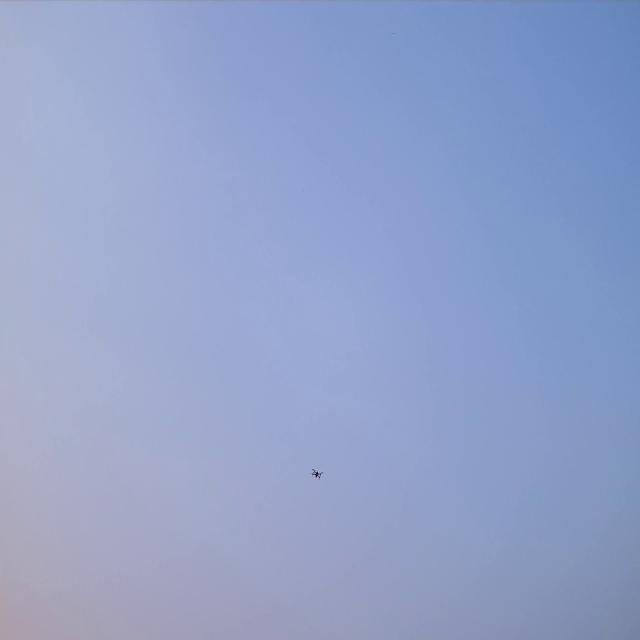UAV: (310, 466, 324, 482)
